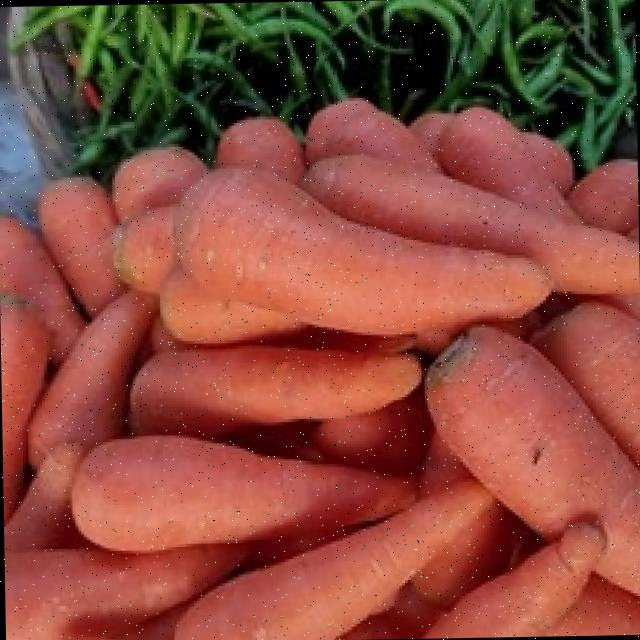carrot: (0, 105, 637, 640)
